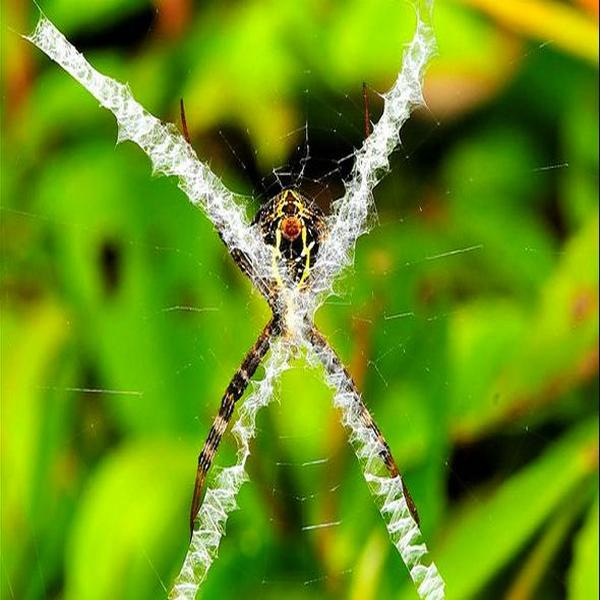St Andrew's Cross Spider: (180, 97, 421, 535)
